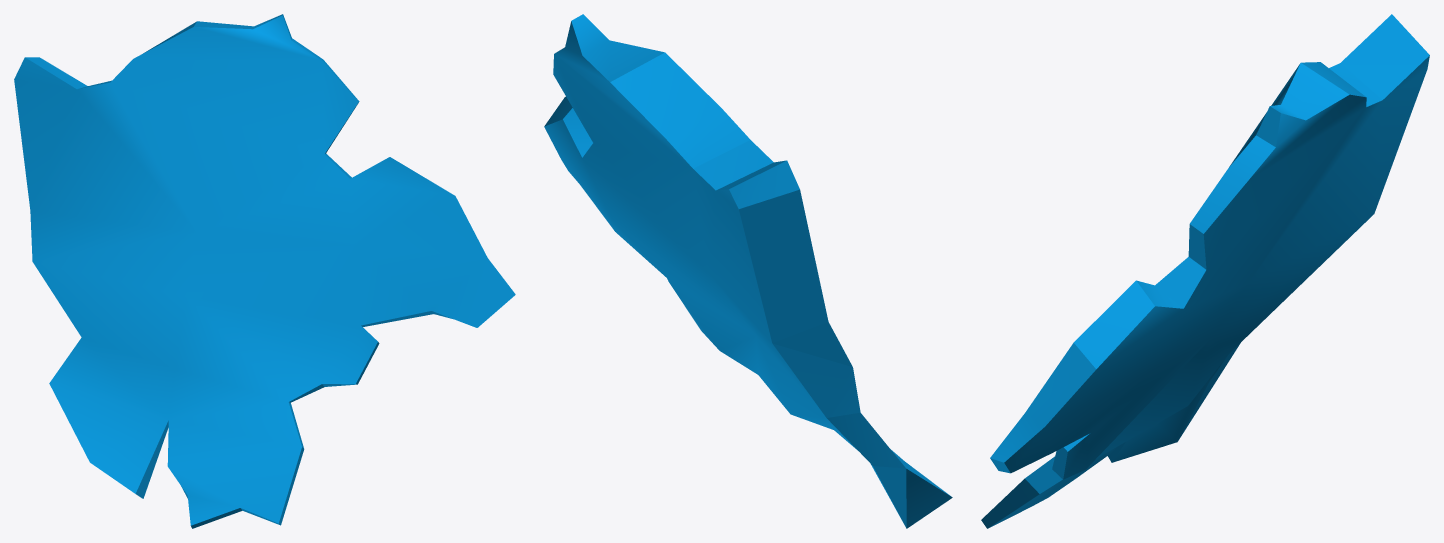
File: p_destroyedwarehouse_metal_chunk_01.fbx
3 renders of one model, left to right at view 1: azimuth 30°, elevation 25°; view 2: azimuth 150°, elevation 25°; view 3: azimuth 270°, elevation 25°, orthographic. The views are drawn at different scales.
Visible parts, largest first — view 1: p_destroyedwarehouse_metal_chunk_01; view 2: p_destroyedwarehouse_metal_chunk_01; view 3: p_destroyedwarehouse_metal_chunk_01.
Boxes of the visible parts, box(x1,y1,x2,y2) form: p_destroyedwarehouse_metal_chunk_01: box(14, 14, 515, 528); p_destroyedwarehouse_metal_chunk_01: box(544, 14, 952, 528); p_destroyedwarehouse_metal_chunk_01: box(981, 14, 1429, 528).
Bounding box in the file's own units: 6.87 × 7.32 × 5.95.
